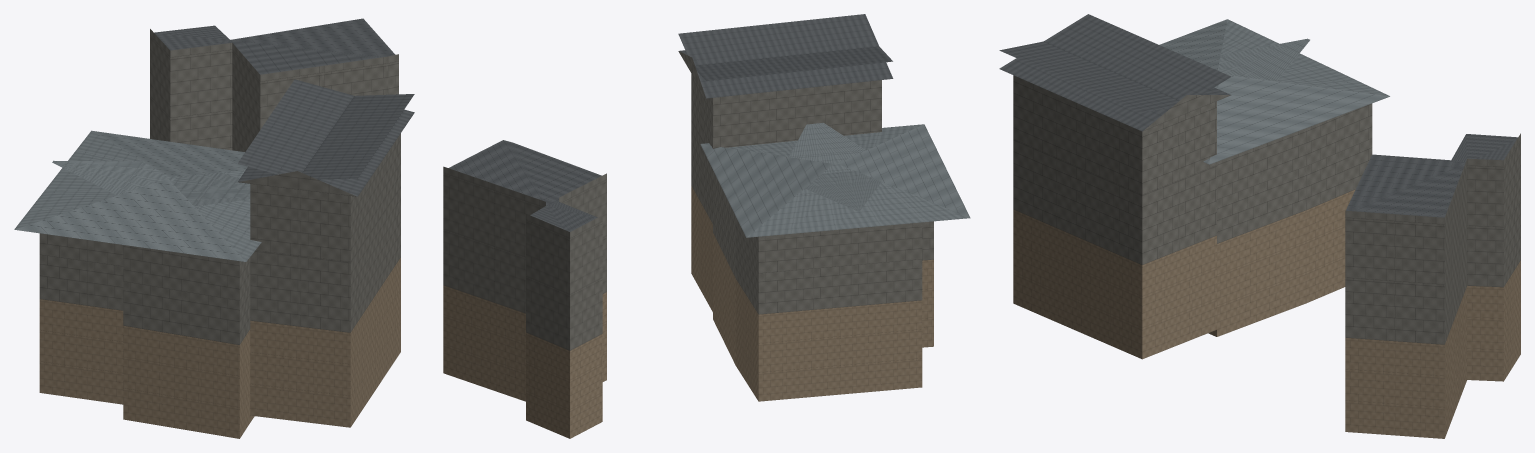
The model's file is bld_c38_-12_542.gltf.
3 views of the same model, side by side, from view 1: azimuth 30°, elevation 25°; view 2: azimuth 150°, elevation 25°; view 3: azimuth 270°, elevation 25° (orthographic). The views are drawn at different scales.
Parts seen in each view (by area): view 1: bld_c38_-12_542; view 2: bld_c38_-12_542; view 3: bld_c38_-12_542.
Boxes of the visible parts, x1,y1,x2,y2 form: bld_c38_-12_542: [14, 18, 414, 438]; bld_c38_-12_542: [443, 14, 970, 438]; bld_c38_-12_542: [999, 14, 1520, 438].
Size of the model in its own units: 25.8 by 15 by 25.61.
5 materials, 5 textured.
